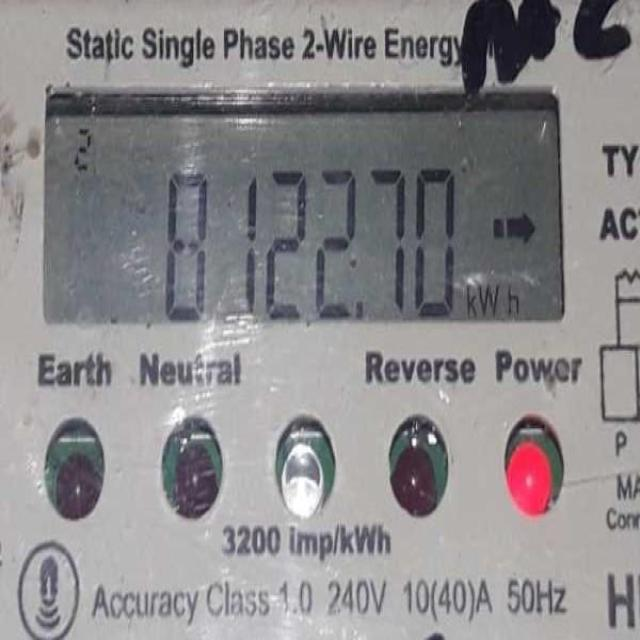0: (411, 164, 456, 316)
1: (240, 164, 264, 317)
2: (268, 166, 309, 321), (314, 163, 353, 317)
7: (368, 164, 412, 315)
8: (158, 166, 216, 325)
Digital meter: (48, 101, 564, 323)
point: (350, 293, 370, 321)
